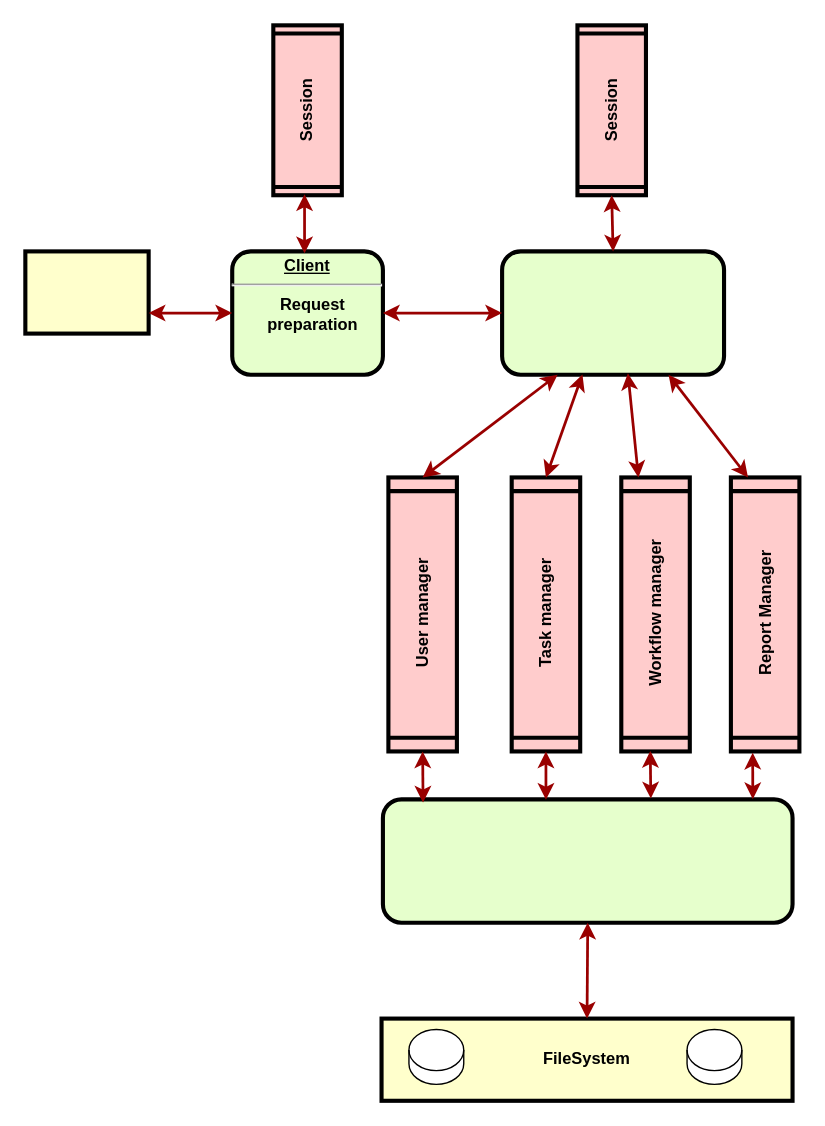
Some shapes in this 825 by 1126 pixel diagram are drawn without their labels. The centre of each missing label's shape, as x and y in pixels:
"Server Request handling" belongs at point 612,312.
"Storage manager - Sava/Load data - Object To record mapping" belongs at point 587,860.
"User Interface" belongs at point 86,292.
